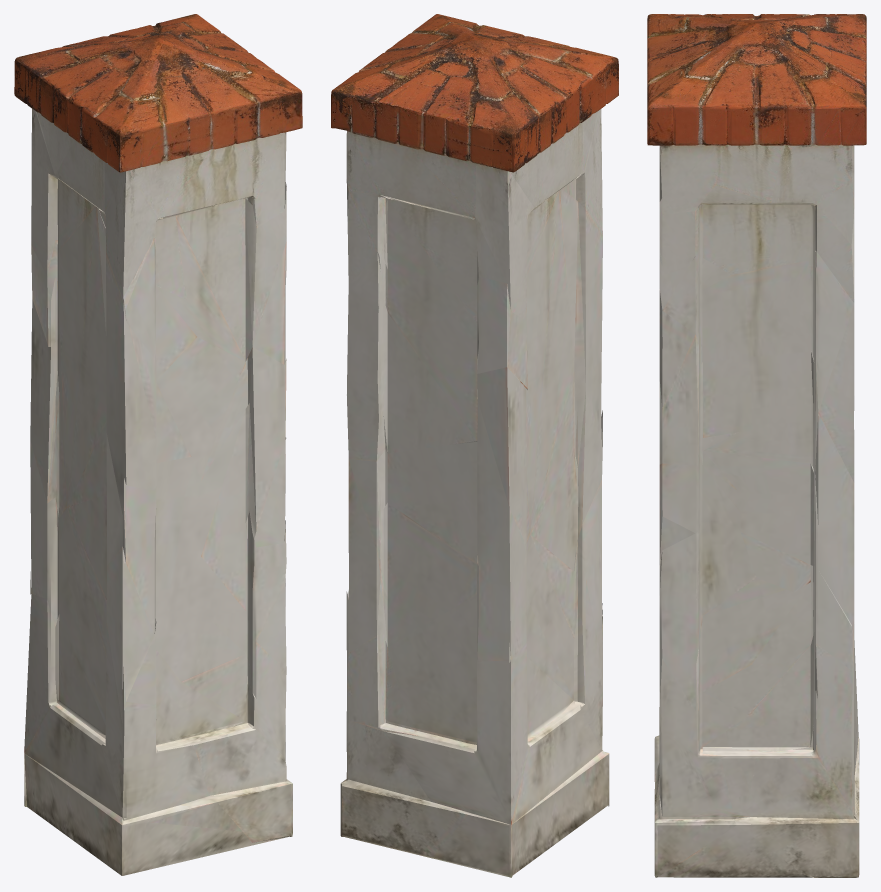
The model's file is w5gatepost.glb.
3 views of the same model, side by side, from view 1: azimuth 30°, elevation 25°; view 2: azimuth 150°, elevation 25°; view 3: azimuth 270°, elevation 25° (orthographic). The views are drawn at different scales.
Visible parts, largest first — view 1: output_unwrapped; view 2: output_unwrapped; view 3: output_unwrapped.
Part boxes in pixels (x1,y1,x2,y2): output_unwrapped: (14,14,302,875); output_unwrapped: (331,14,618,877); output_unwrapped: (647,14,866,877).
Bounding box in the file's own units: 0.4167 × 1.7 × 0.4167.
1 material, 1 textured.
